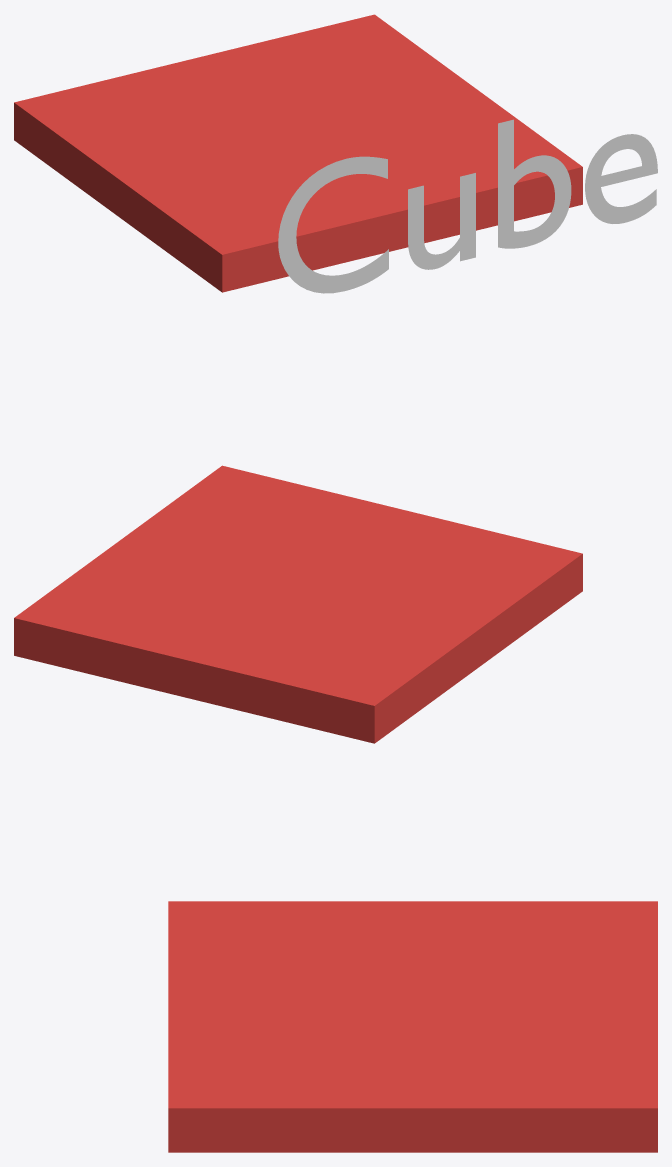
3 renders of one model, top to bottom at view 1: azimuth 30°, elevation 25°; view 2: azimuth 150°, elevation 25°; view 3: azimuth 270°, elevation 25°, orthographic. The views are drawn at different scales.
Parts seen in each view (by area): view 1: Cube, Text; view 2: Cube; view 3: Cube.
Boxes of the visible parts, box(x1,y1,x2,y2) form: Cube: box(14, 14, 582, 292); Text: box(278, 119, 657, 293); Cube: box(14, 465, 582, 743); Cube: box(168, 901, 657, 1152).
Bounding box in the file's own units: 2.11 × 0.8882 × 2.63.
